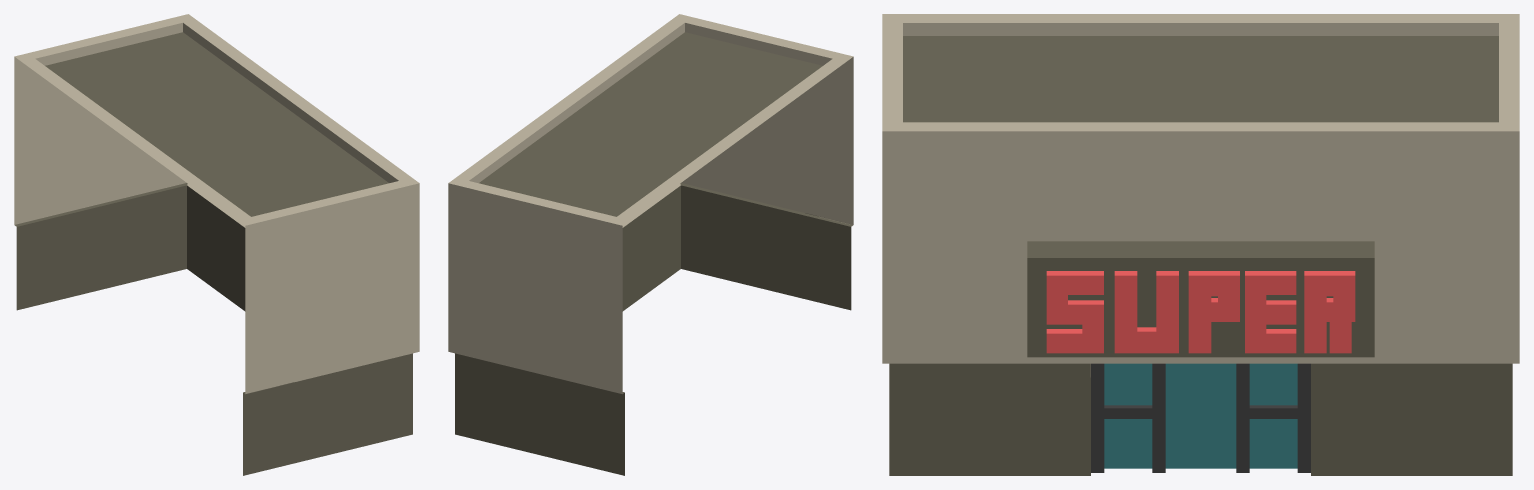
Rendered from Magasin.fbx.
3 renders of one model, left to right at view 1: azimuth 30°, elevation 25°; view 2: azimuth 150°, elevation 25°; view 3: azimuth 270°, elevation 25°, orthographic. The views are drawn at different scales.
Parts seen in each view (by area): view 1: super; view 2: super; view 3: super.
Boxes of the visible parts, bbox=[...] form: super: bbox=[14, 14, 419, 475]; super: bbox=[448, 14, 853, 475]; super: bbox=[882, 14, 1519, 475].
Bounding box in the file's own units: 39.74 × 45.78 × 76.09.
